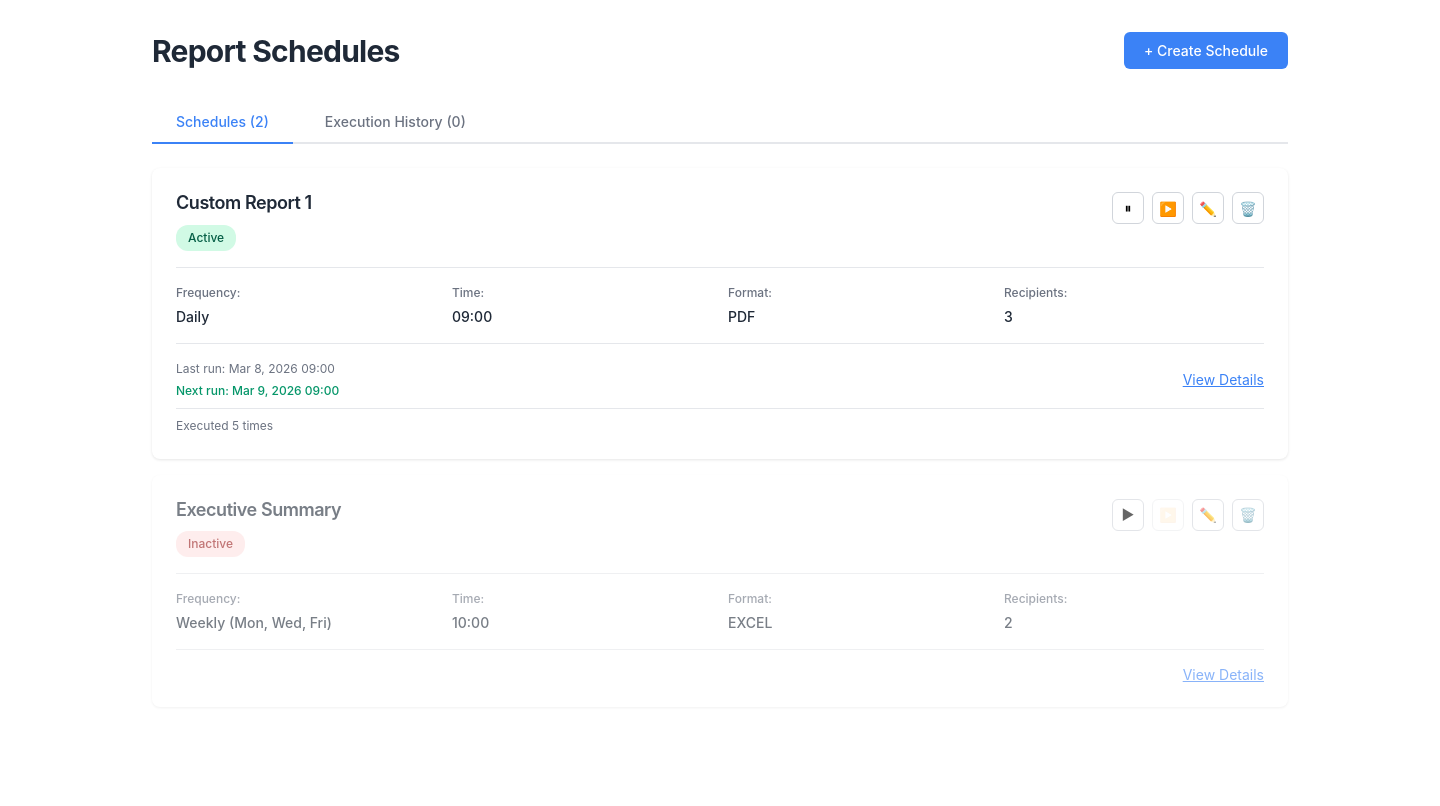
Scenario: ReportSchedules › Schedules List › should handle edit schedule
The width and height of the screenshot is (1440, 806).
Click the button titled "Edit" in the row of "Custom Report 1": (1208, 208) [1192,192,1224,224]
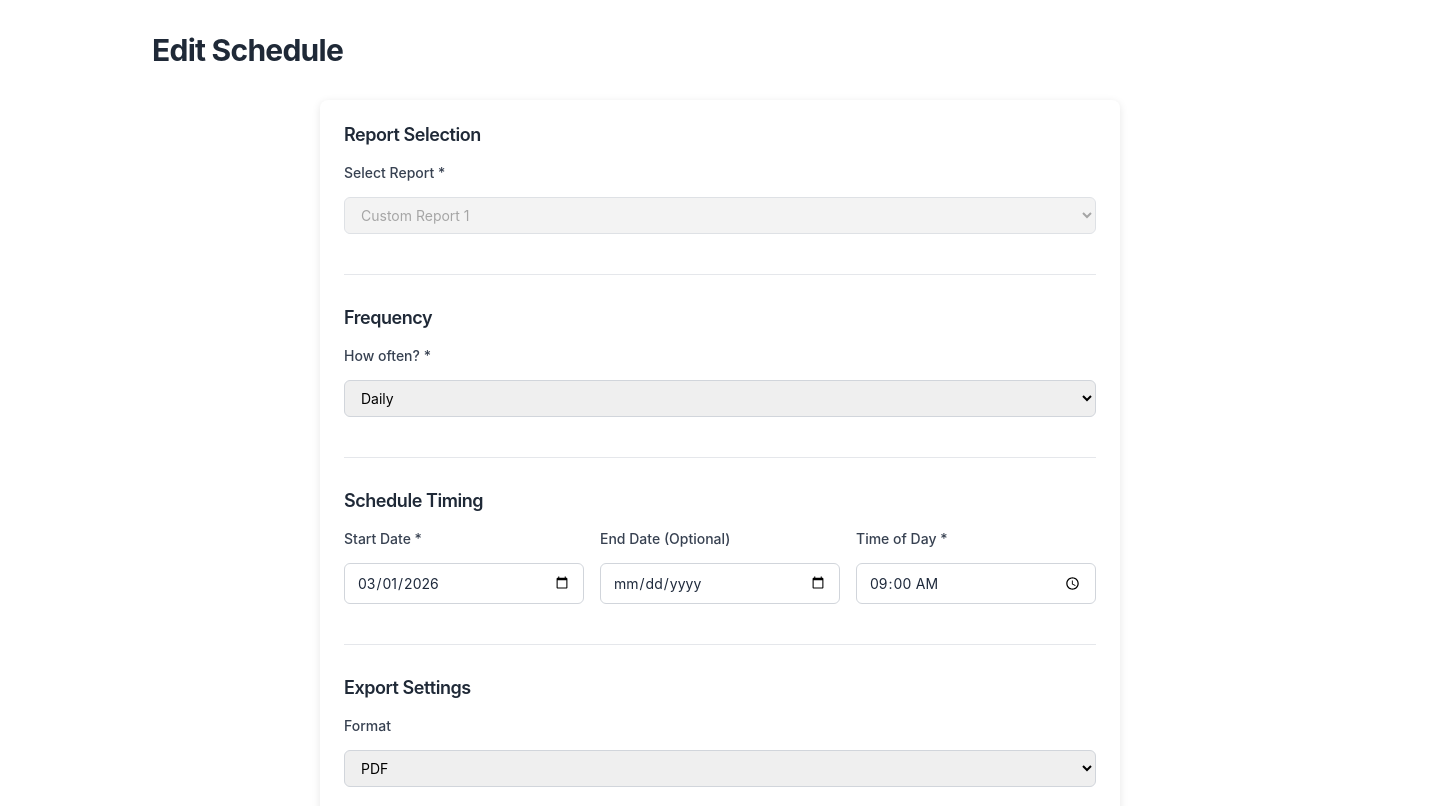
Result: the heading "Edit Schedule" is shown at [152,32,343,68]
